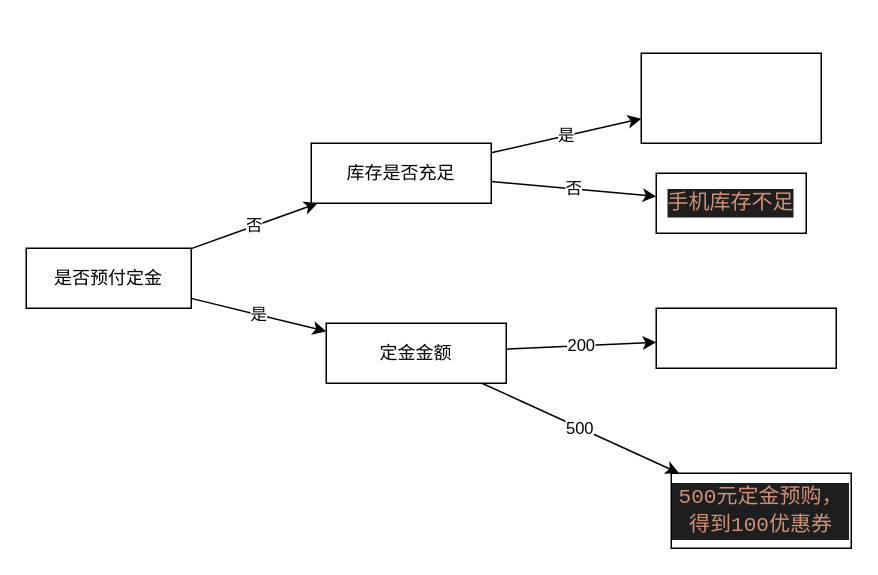
The diagram is 878 pixels wide and 575 high, and some of its shapes have lost their labels. The shapes that lost their labels are listed below. From the top down, each one's centre as x and y in pixels, then its label:
At (x=730, y=97): "普通购买，无优惠券".
At (x=745, y=337): "200元定金预购，得到50优惠券".
